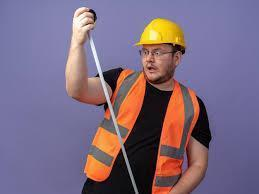helmet: (133, 18, 186, 47)
